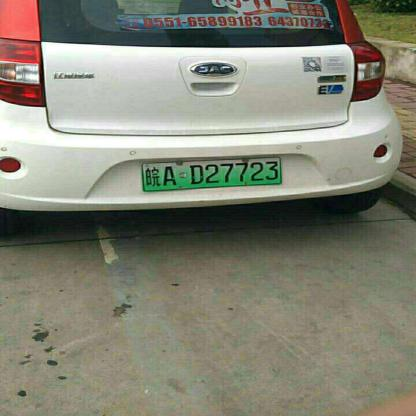lp: (143, 158, 280, 190)
